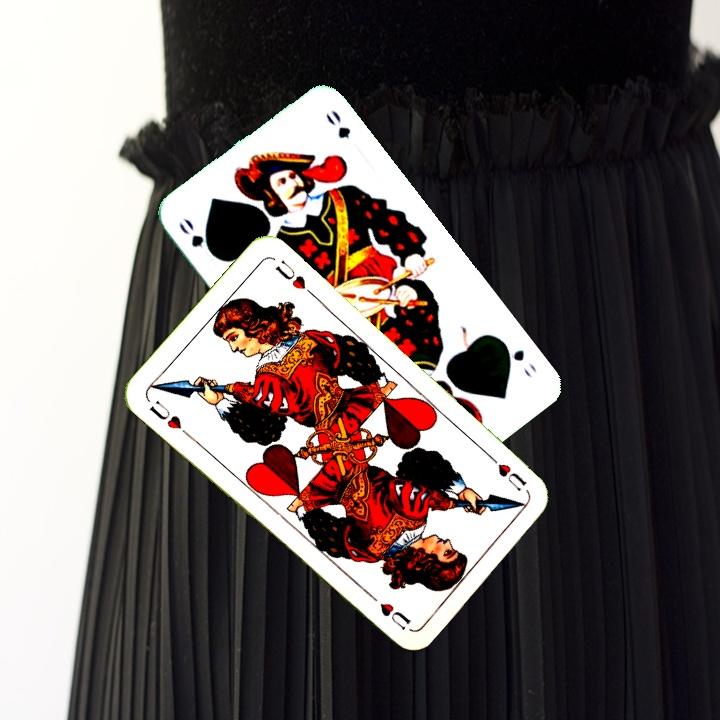GO: (174, 213, 222, 262), (496, 336, 540, 381)
HU: (145, 396, 192, 439), (493, 459, 530, 493)
